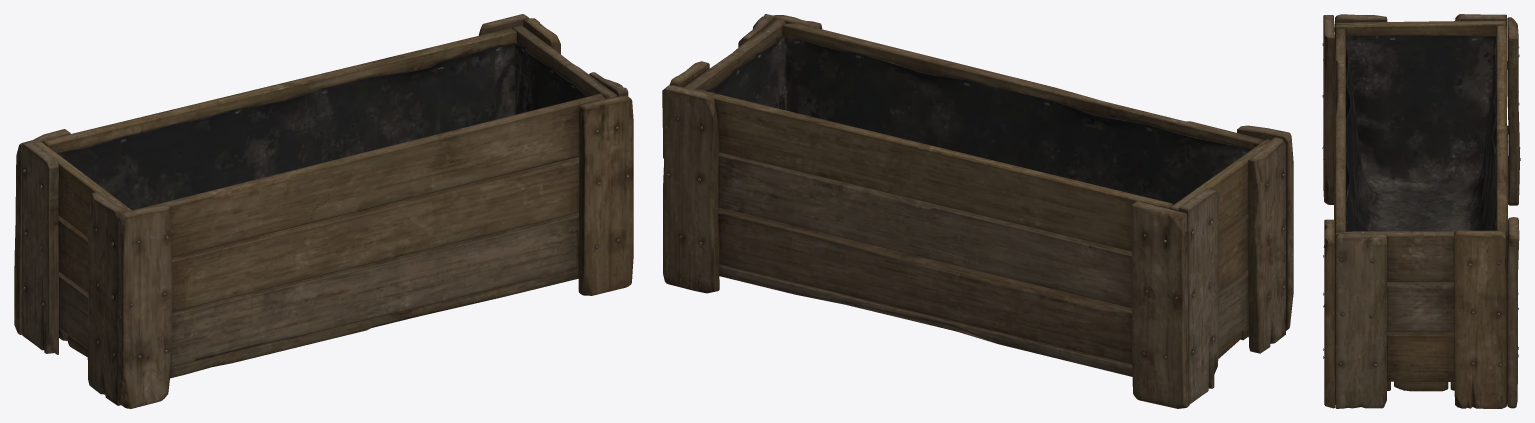
File: planter_box_02.glb
3 renders of one model, left to right at view 1: azimuth 30°, elevation 25°; view 2: azimuth 150°, elevation 25°; view 3: azimuth 270°, elevation 25°, orthographic. The views are drawn at different scales.
Parts seen in each view (by area): view 1: planter_box_02; view 2: planter_box_02; view 3: planter_box_02.
Part boxes in pixels (bbox=[...]): planter_box_02: bbox=[14, 14, 633, 408]; planter_box_02: bbox=[662, 14, 1293, 408]; planter_box_02: bbox=[1322, 14, 1520, 408].
Bounding box in the file's own units: 1.25 × 0.4534 × 0.4673.
Materials: 1 (1 with a texture image).
